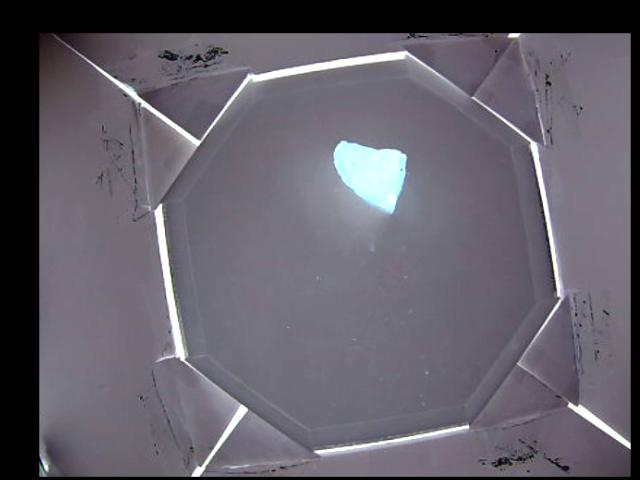Brisk: (333, 141, 408, 209)
